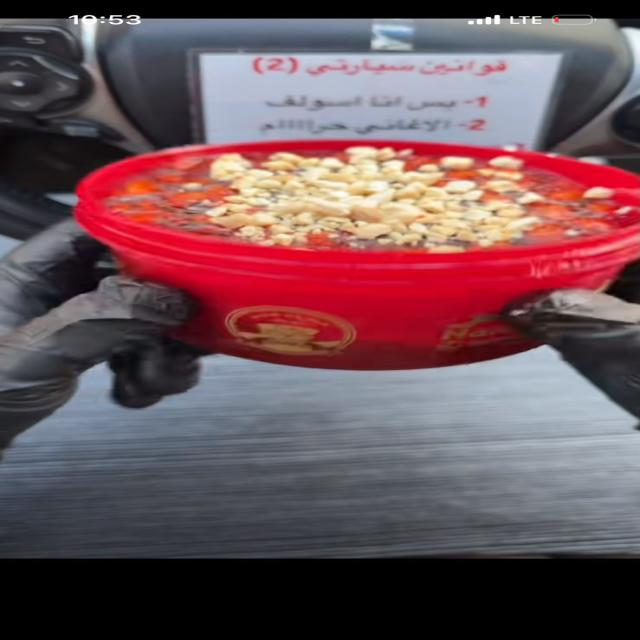Halwa: (78, 138, 640, 264)
